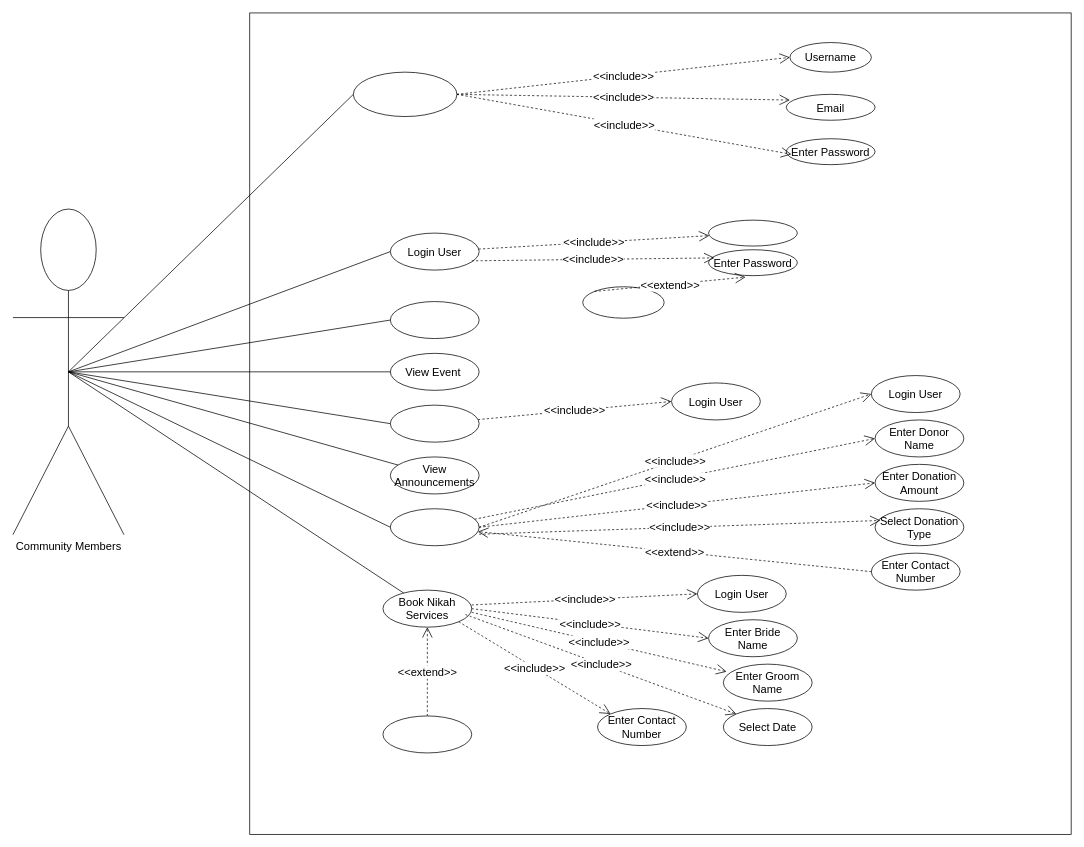
Some shapes in this 1084 by 847 pixel diagram are drawn without their labels. Here are the shapes that lost their labels. From the top down, the centre of each, then its label:
At [405,94]: "Register User".
At [752,232]: "User Name/Email".
At [434,320]: "View Prayer Times".
At [623,302]: "Forgot Password".
At [434,423]: "View Donation Record".
At [434,527]: "Make Donation".
At [427,734]: "View Booking Status".
